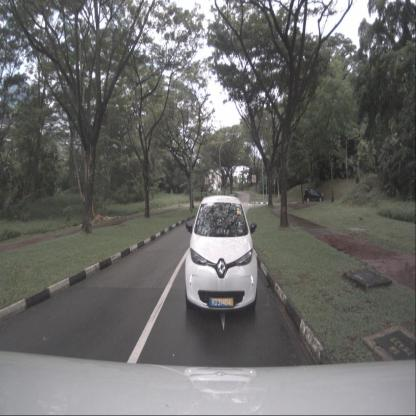vehicle-car: (185, 195, 258, 316), (304, 188, 324, 204)
